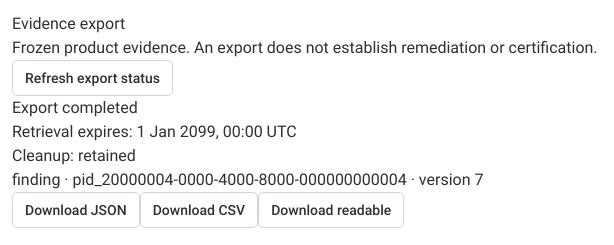
Test case: Agent export panel › discards late grant after the panel is replaced or its authority changes
This screenshot has width=614, height=245.
Earlier steps of the test are not shown.
Later steps or results of the test are not shown.
Click the button "Download JSON": (76, 210) [12,192,140,228]
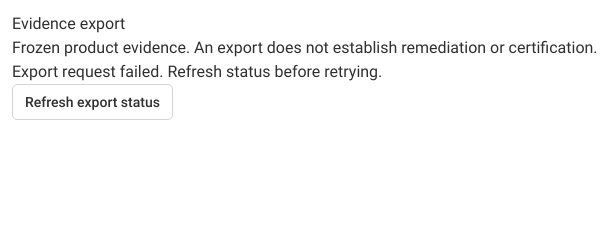
Result: the button "Download JSON" is gone
